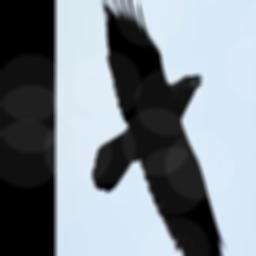Crow: (90, 0, 230, 256)
